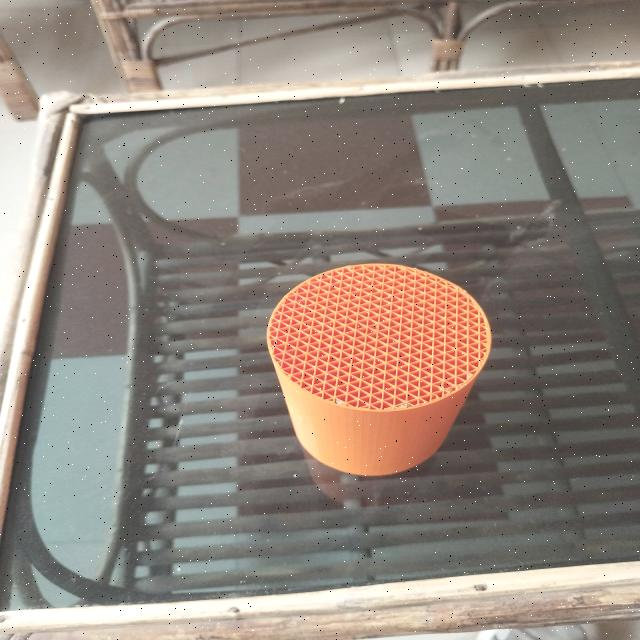Cylinder: (266, 262, 494, 476)
